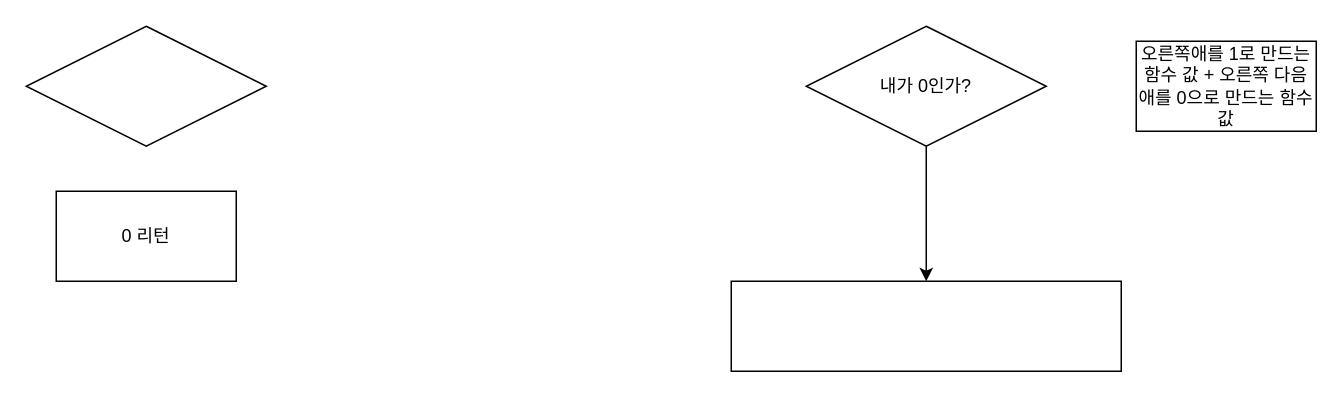
Image size: 1343x398. Some labels were removed from this diagram. The centre of each missing label's shape, as x and y in pixels:
"내 오른쪽을 0으로 만드는 값 +" goes at (x=925, y=325).
"내가 1인가?" goes at (x=145, y=85).
